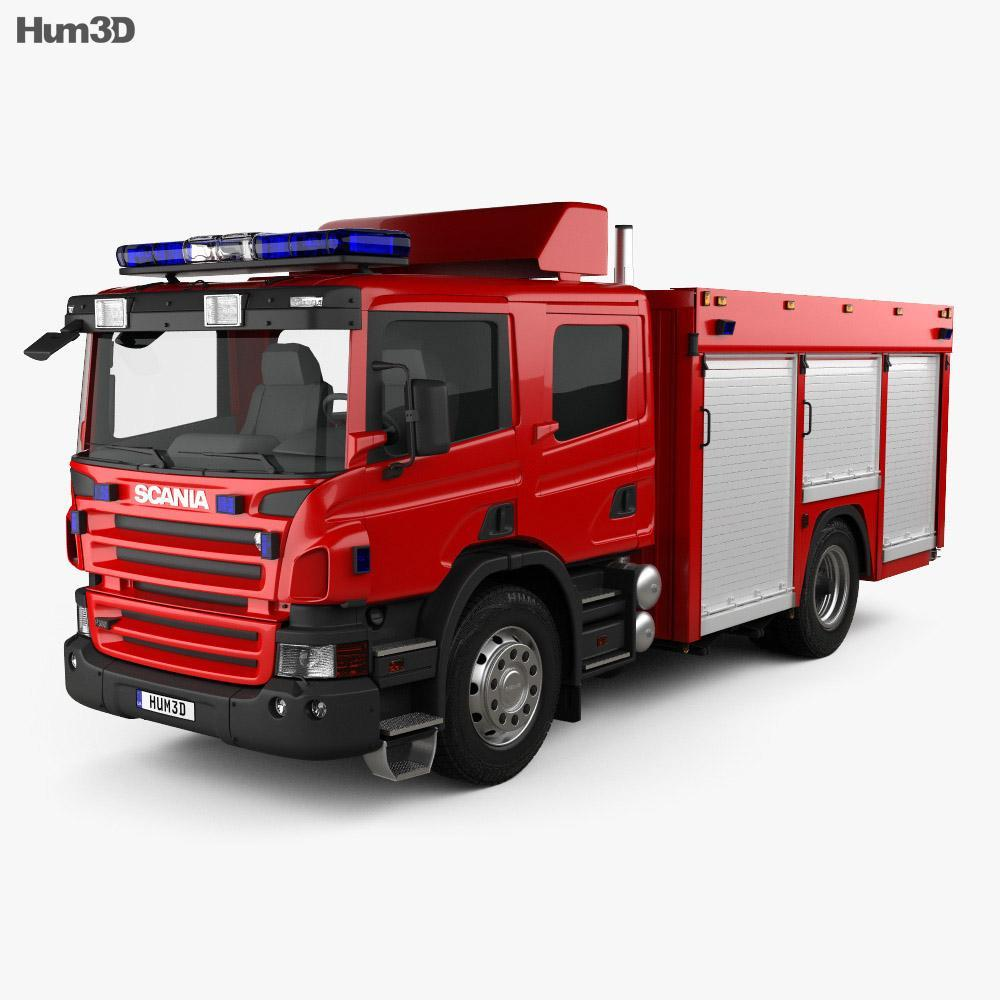Fire-engine: (26, 201, 957, 792)
